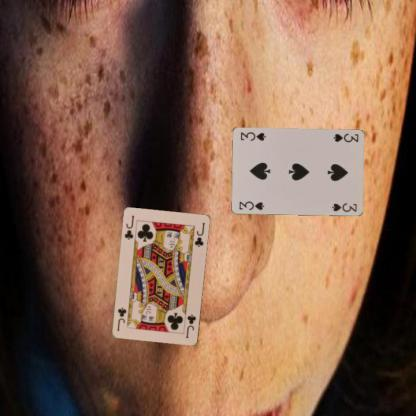3s: (237, 199, 266, 211), (331, 131, 359, 143)
Jc: (183, 312, 197, 340), (122, 213, 136, 241)
